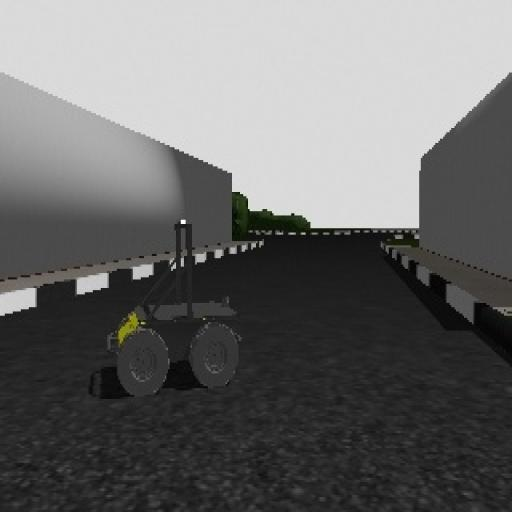huskya200: (92, 188, 259, 404)
